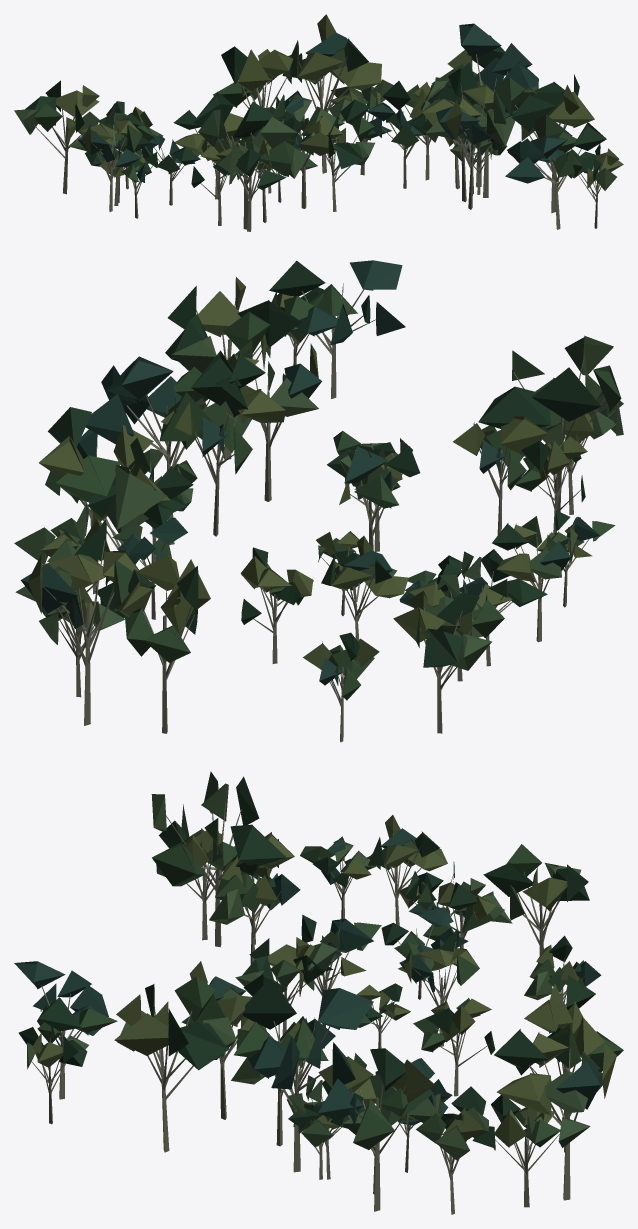
The model's file is forest_21_26.dae.
The picture shows the model from 3 angles, top to bottom: view 1: azimuth 30°, elevation 25°; view 2: azimuth 150°, elevation 25°; view 3: azimuth 270°, elevation 25°; orthographic projection. The views are drawn at different scales.
Visible parts, largest first — view 1: Node; view 2: Node; view 3: Node.
Part boxes in pixels (x1,y1,x2,y2): Node: (14,14,623,231); Node: (14,260,623,742); Node: (14,771,623,1214).
Size of the model in its own units: 10.66 by 11.06 by 5.67.
